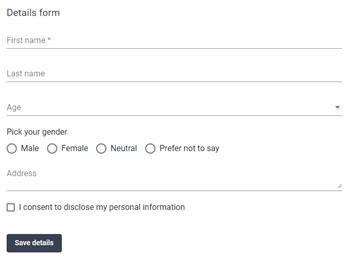button: (7, 235, 63, 254)
checkbox: (7, 204, 16, 213)
label: (19, 203, 188, 213), (159, 144, 221, 156), (7, 7, 62, 19), (5, 68, 47, 80), (8, 129, 69, 137), (5, 37, 52, 46), (61, 143, 90, 154), (5, 170, 39, 178), (112, 145, 140, 153), (22, 145, 41, 155), (7, 104, 21, 114)
radio: (7, 144, 18, 156), (47, 144, 59, 155), (97, 144, 108, 156), (146, 143, 157, 155)
